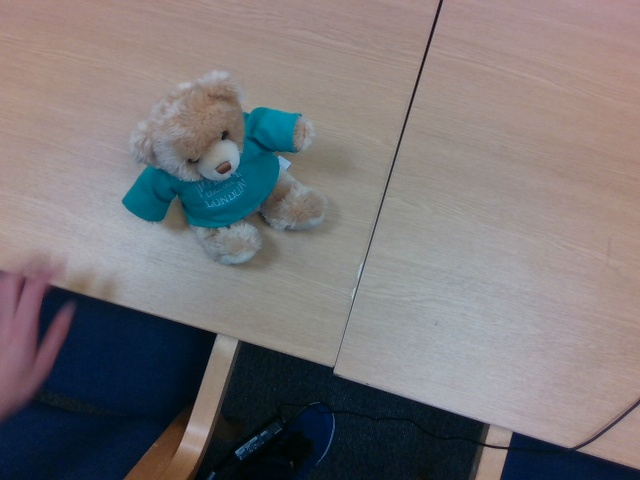teddy: (123, 70, 330, 267)
